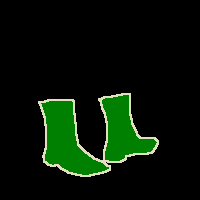shoe: (39, 99, 110, 176), (99, 94, 158, 162)
